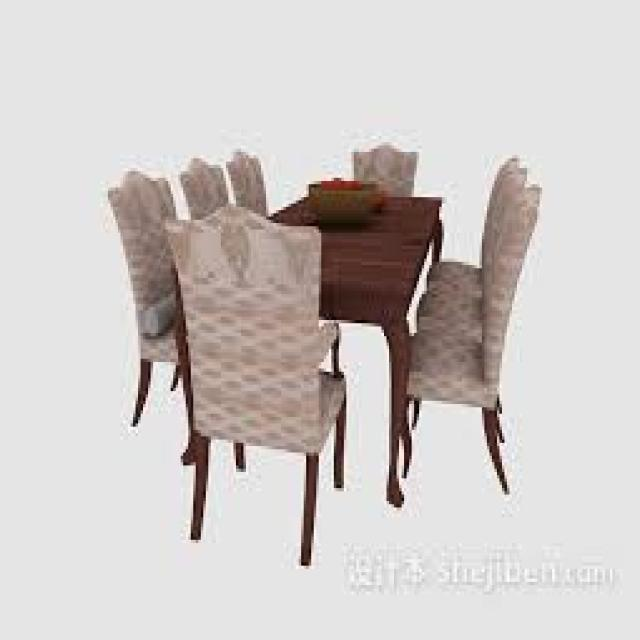table: (104, 134, 546, 574)
